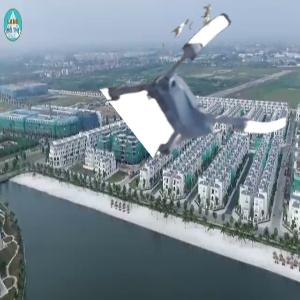drone: (130, 25, 285, 180)
